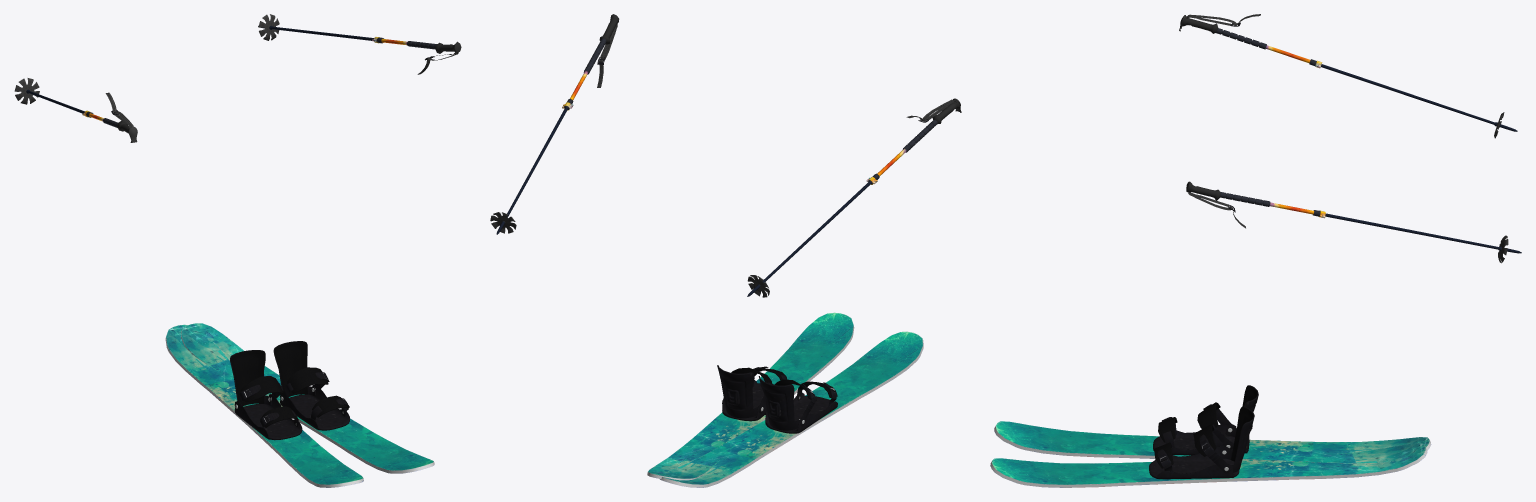
Rendered from SkiingBoard.fbx.
The picture shows the model from 3 angles, left to right: view 1: azimuth 30°, elevation 25°; view 2: azimuth 150°, elevation 25°; view 3: azimuth 270°, elevation 25°; orthographic projection. The views are drawn at different scales.
Visible parts, largest first — view 1: Snow_Board2, Snow_Board, Shoe_Holder, Shoe_Holder1, stick, stick1; view 2: Snow_Board2, Snow_Board, Shoe_Holder1, Shoe_Holder, stick1, stick; view 3: Snow_Board, Snow_Board2, Shoe_Holder, Shoe_Holder1, stick, stick1.
Boxes of the visible parts, <box> form: Snow_Board2: <box>165,324,363,487</box>; Snow_Board: <box>181,323,434,473</box>; Shoe_Holder: <box>273,341,349,430</box>; Shoe_Holder1: <box>230,350,302,440</box>; stick: <box>258,14,461,74</box>; stick1: <box>14,78,137,142</box>; Snow_Board2: <box>660,331,923,487</box>; Snow_Board: <box>647,312,854,480</box>; Shoe_Holder1: <box>758,376,837,433</box>; Shoe_Holder: <box>717,365,787,421</box>; stick1: <box>747,98,961,297</box>; stick: <box>490,14,619,234</box>; Snow_Board: <box>990,443,1427,487</box>; Snow_Board2: <box>994,421,1431,463</box>; Shoe_Holder: <box>1149,406,1254,479</box>; Shoe_Holder1: <box>1153,385,1258,455</box>; stick: <box>1186,181,1521,263</box>; stick1: <box>1179,14,1517,138</box>.
Bounding box in the file's own units: 157 × 154 × 203.
